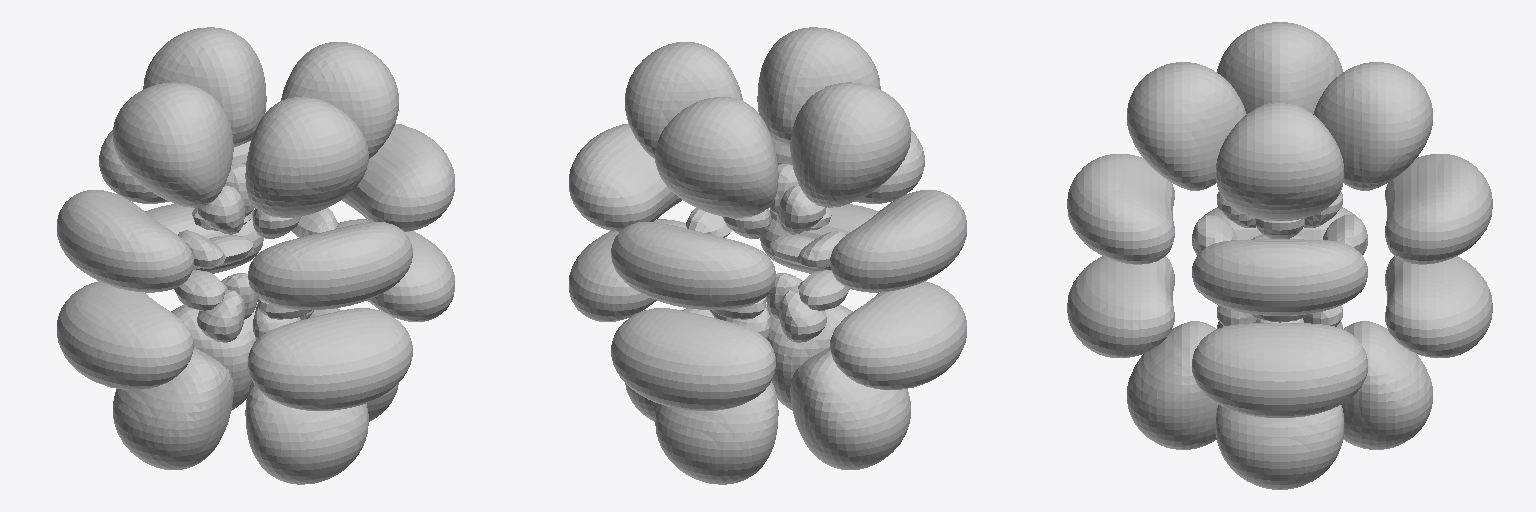
File: orb_n=7_ l=5 _m=2.obj
3 renders of one model, left to right at view 1: azimuth 30°, elevation 25°; view 2: azimuth 150°, elevation 25°; view 3: azimuth 270°, elevation 25°, orthographic.
Visible parts, largest first — view 1: orb_n=7__l=5__m=2; view 2: orb_n=7__l=5__m=2; view 3: orb_n=7__l=5__m=2.
Boxes of the visible parts, box(x1,y1,x2,y2) form: orb_n=7__l=5__m=2: box(57, 27, 454, 484); orb_n=7__l=5__m=2: box(569, 27, 966, 484); orb_n=7__l=5__m=2: box(1067, 22, 1492, 489).
Bounding box in the file's own units: 173 × 169 × 173.